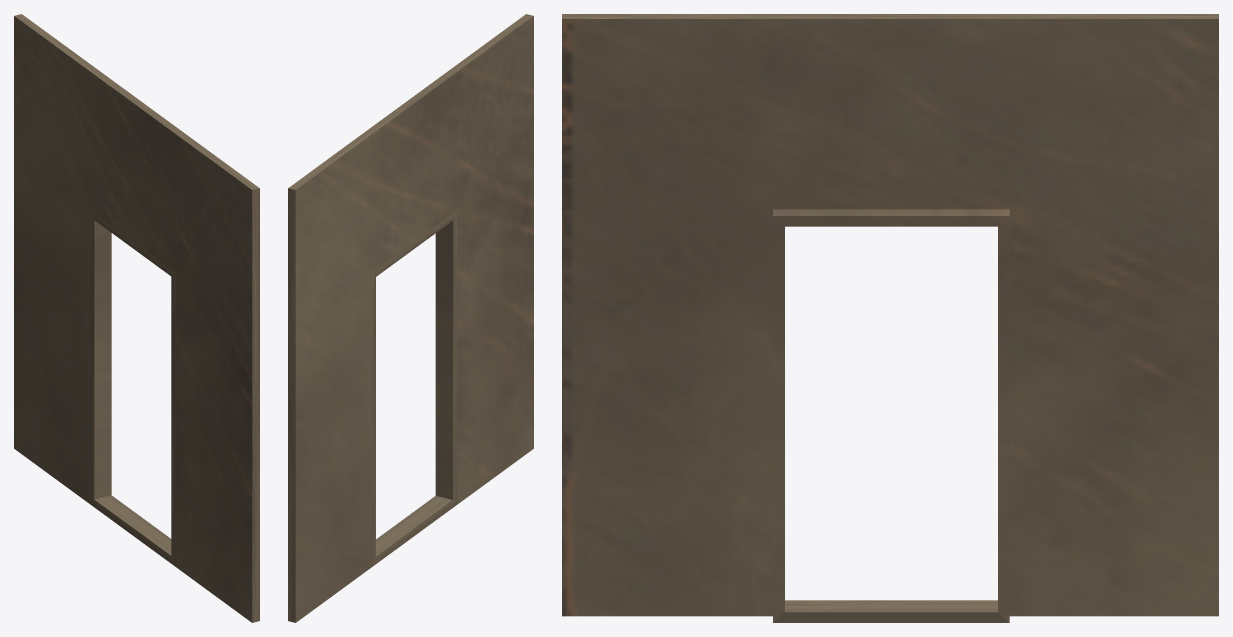
The model's file is wall_door_smooth.dae.
3 views of the same model, side by side, from view 1: azimuth 30°, elevation 25°; view 2: azimuth 150°, elevation 25°; view 3: azimuth 270°, elevation 25° (orthographic). The views are drawn at different scales.
Parts seen in each view (by area): view 1: Cube.002; view 2: Cube.002; view 3: Cube.002.
Part boxes in pixels (bbox=[...]): Cube.002: bbox=[14, 14, 259, 622]; Cube.002: bbox=[288, 14, 533, 622]; Cube.002: bbox=[562, 14, 1218, 622].
Size of the model in its own units: 0.3051 by 7.21 by 7.24.
1 material, 1 textured.
